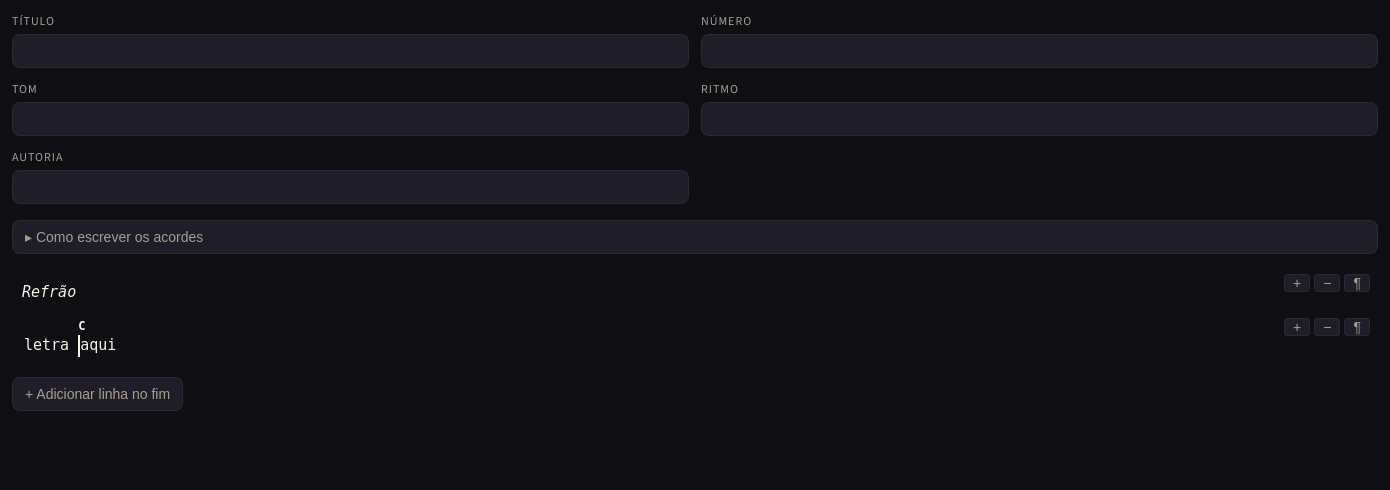
confirmar não engole o que foi digitado › esvaziar o valor de um {comment} não vira linha de células em silêncio
Click the button "Refrão".
click(49, 292)  # box [22,283,76,301]
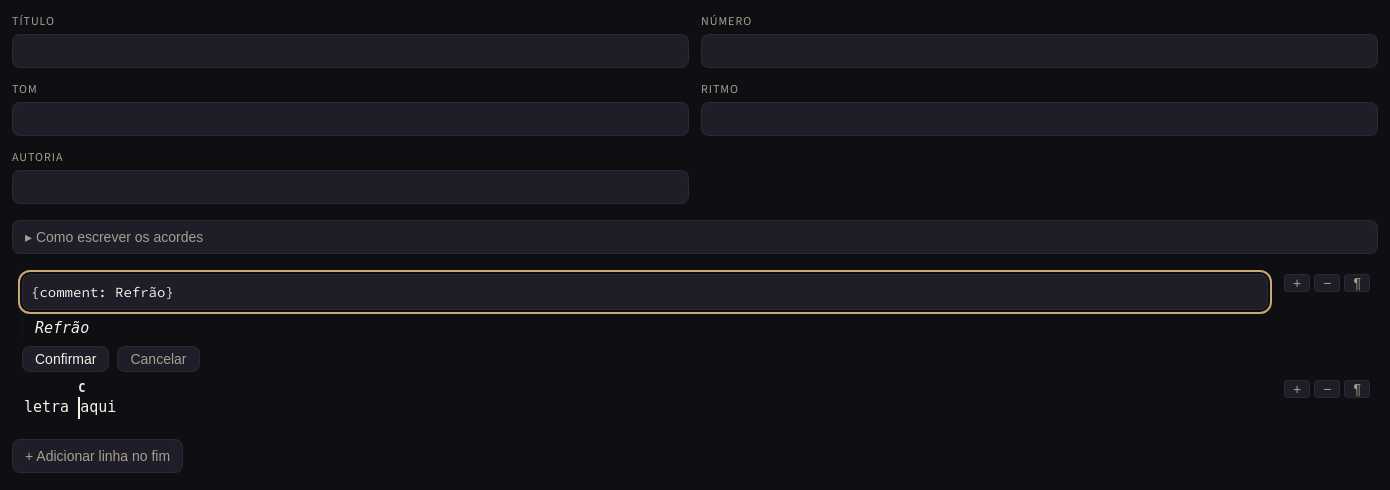
Clear the field named "linha" at (645, 292), box [22,274,1268,310]
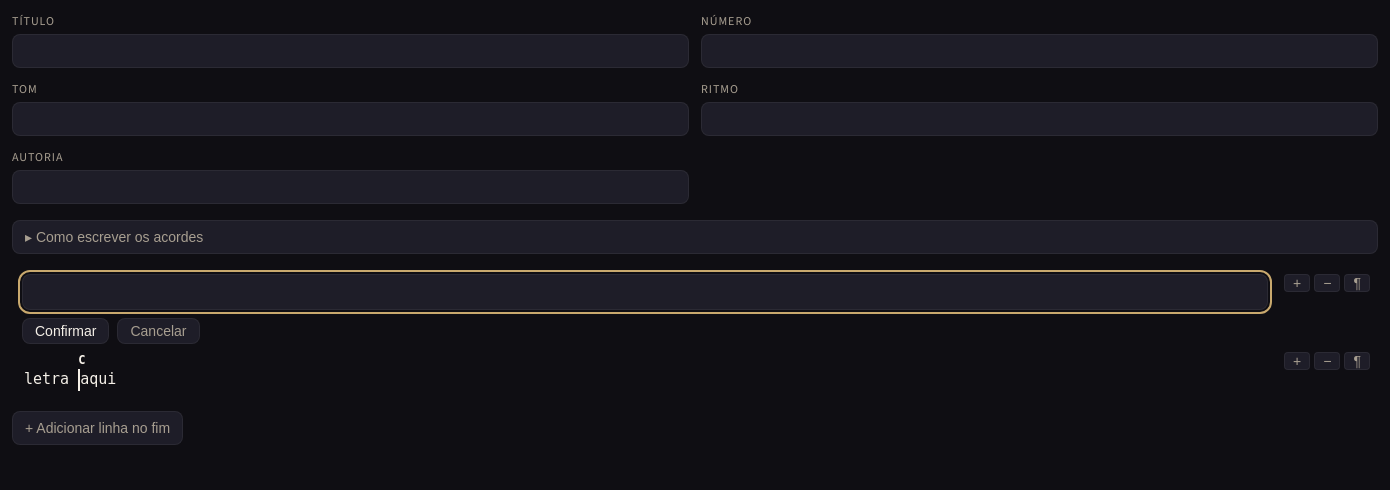
Click the button "Confirmar".
click(66, 331)  # box [22,318,110,344]
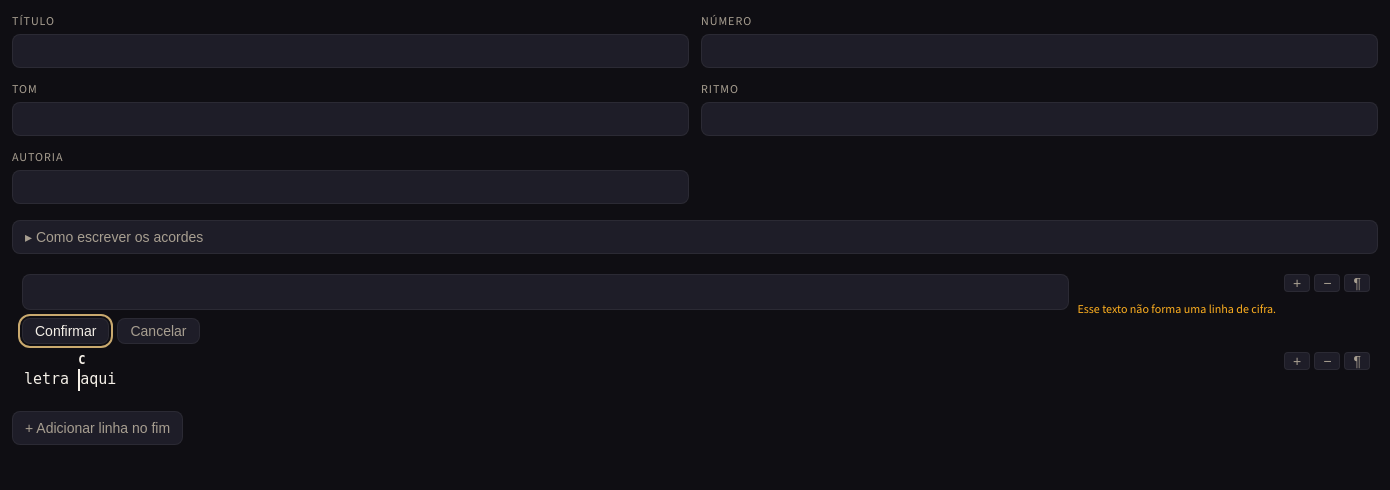
Expected: the text "Esse texto não forma uma linha de cifra." is shown, [1078,300,1276,318]
